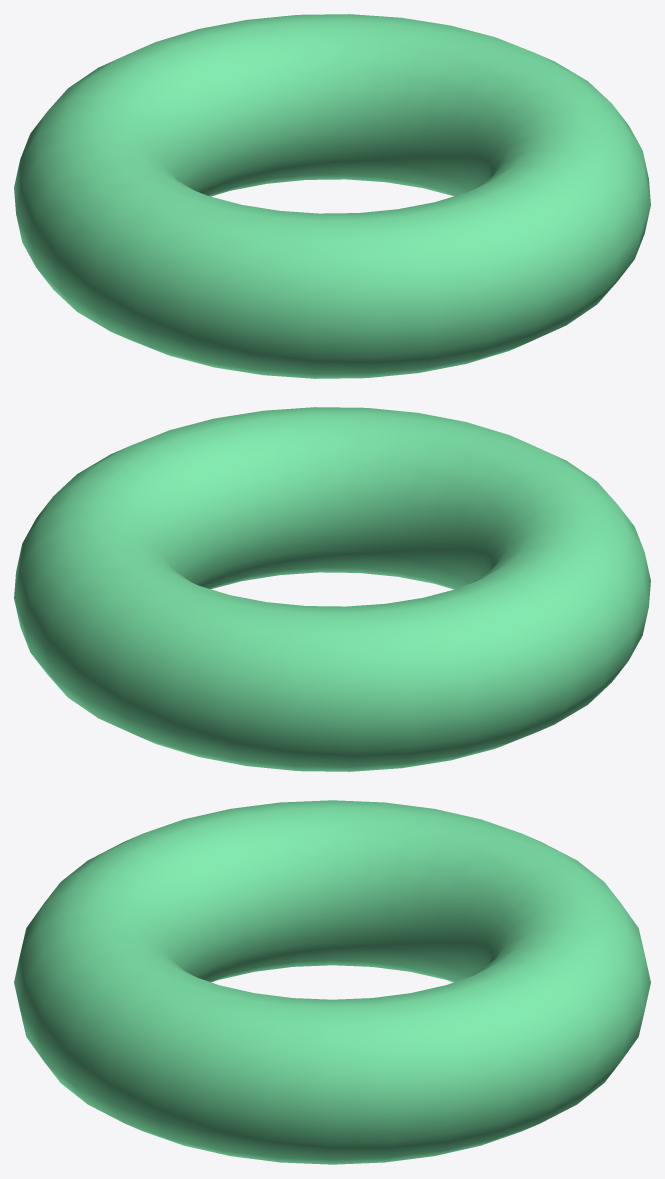
3 views of the same model, one above another, from view 1: azimuth 30°, elevation 25°; view 2: azimuth 150°, elevation 25°; view 3: azimuth 270°, elevation 25° (orthographic).
Size of the model in its own units: 2.7 by 0.7 by 2.7.
